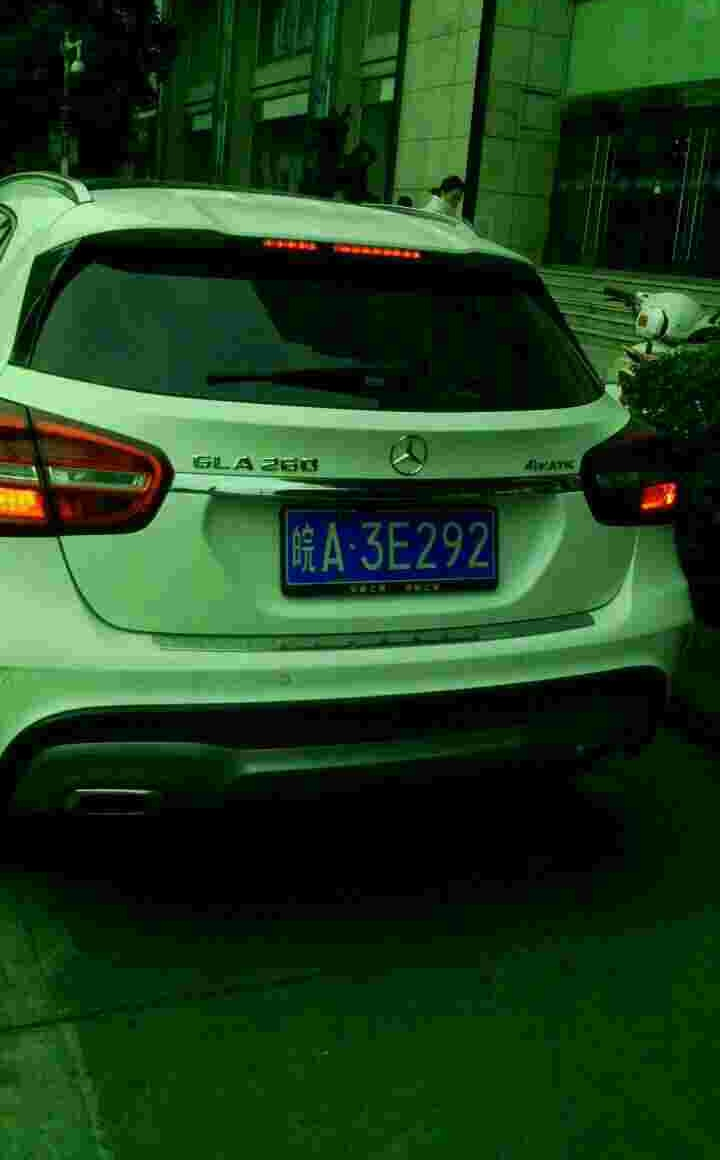license_plate: (278, 504, 509, 574)
